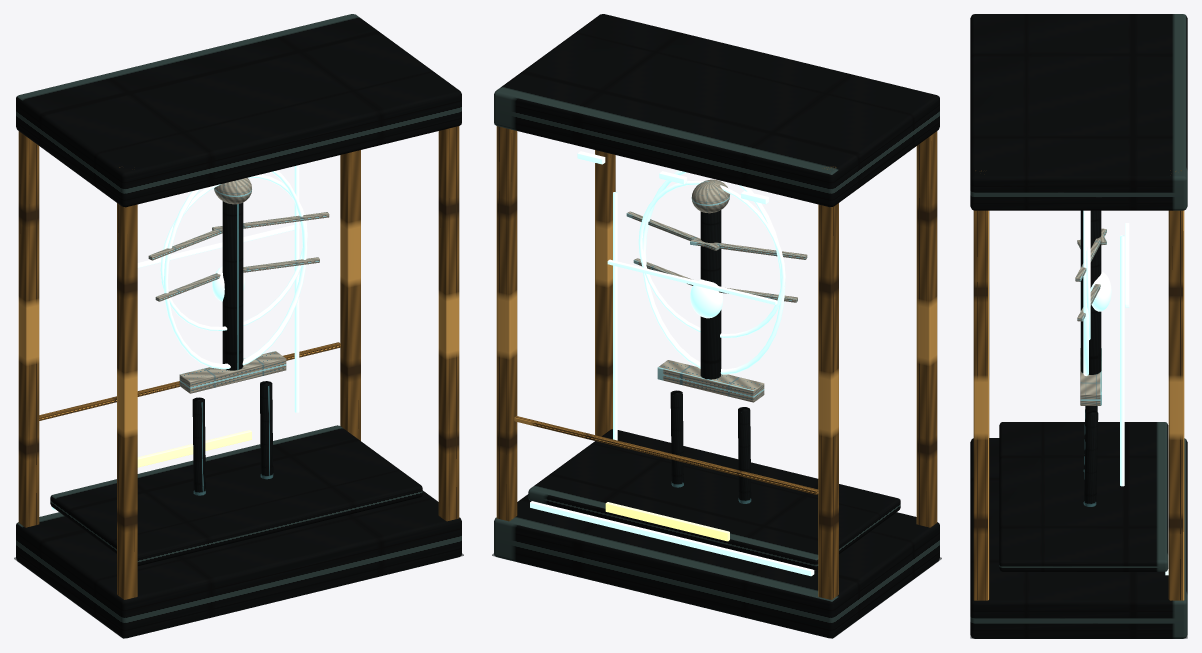
Rendered from age_museum_body_reference_case.glb.
The picture shows the model from 3 angles, left to right: view 1: azimuth 30°, elevation 25°; view 2: azimuth 150°, elevation 25°; view 3: azimuth 270°, elevation 25°; orthographic projection.
Visible parts, largest first — view 1: skeleton_case_upper_cap_smoked_black_textured, skeleton_case_lower_plinth_smoked_black_textured, skeleton_case_inner_deck_smoked_display_floor, skeleton_case_aged_brass_corner_post_0.765_-0.405, skeleton_case_aged_brass_corner_post_-0.765_0.405, skeleton_case_aged_brass_corner_post_-0.765_-0.405, skeleton_case_aged_brass_corner_post_0.765_0.405, body_asset_dark_bionic_spine_column, body_asset_outer_oval_specimen_scan_frame, body_asset_ivory_pelvis_memory_anchor_plate, body_asset_upper_cyan_rib_scan_ring, body_asset_dark_abstract_leg_memory_strut_1 (+7 smaller); view 2: skeleton_case_upper_cap_smoked_black_textured, skeleton_case_lower_plinth_smoked_black_textured, skeleton_case_inner_deck_smoked_display_floor, skeleton_case_aged_brass_corner_post_0.765_0.405, skeleton_case_aged_brass_corner_post_-0.765_-0.405, skeleton_case_aged_brass_corner_post_-0.765_0.405, skeleton_case_aged_brass_corner_post_0.765_-0.405, body_asset_dark_bionic_spine_column, skeleton_case_cyan_floor_light_line, body_asset_ivory_pelvis_memory_anchor_plate, skeleton_case_thin_front_lip_beveled_brass, body_asset_upper_cyan_rib_scan_ring (+10 smaller); view 3: skeleton_case_upper_cap_smoked_black_textured, skeleton_case_inner_deck_smoked_display_floor, skeleton_case_lower_plinth_smoked_black_textured, skeleton_case_aged_brass_corner_post_0.765_0.405, skeleton_case_aged_brass_corner_post_0.765_-0.405, body_asset_dark_bionic_spine_column, body_asset_dark_abstract_leg_memory_strut_1, body_asset_vertical_preservation_light_tube_0, body_asset_outer_oval_specimen_scan_frame, body_asset_ivory_pelvis_memory_anchor_plate, body_asset_clean_cyan_heart_memory_core, body_asset_upper_cyan_rib_scan_ring (+2 smaller).
Boxes of the visible parts, <box> form: skeleton_case_upper_cap_smoked_black_textured: <box>16,14,461,207</box>; skeleton_case_lower_plinth_smoked_black_textured: <box>16,490,461,638</box>; skeleton_case_inner_deck_smoked_display_floor: <box>50,425,422,565</box>; skeleton_case_aged_brass_corner_post_0.765_-0.405: <box>438,126,459,521</box>; skeleton_case_aged_brass_corner_post_-0.765_0.405: <box>18,131,39,527</box>; skeleton_case_aged_brass_corner_post_-0.765_-0.405: <box>117,167,137,599</box>; skeleton_case_aged_brass_corner_post_0.765_0.405: <box>340,150,360,440</box>; body_asset_dark_bionic_spine_column: <box>222,201,243,370</box>; body_asset_outer_oval_specimen_scan_frame: <box>163,170,307,369</box>; body_asset_ivory_pelvis_memory_anchor_plate: <box>179,351,286,393</box>; body_asset_upper_cyan_rib_scan_ring: <box>160,174,307,330</box>; body_asset_dark_abstract_leg_memory_strut_1: <box>260,381,273,479</box>; skeleton_case_upper_cap_smoked_black_textured: <box>494,14,939,207</box>; skeleton_case_lower_plinth_smoked_black_textured: <box>494,494,939,638</box>; skeleton_case_inner_deck_smoked_display_floor: <box>528,429,900,570</box>; skeleton_case_aged_brass_corner_post_0.765_0.405: <box>496,126,517,521</box>; skeleton_case_aged_brass_corner_post_-0.765_-0.405: <box>916,131,937,527</box>; skeleton_case_aged_brass_corner_post_-0.765_0.405: <box>818,166,838,599</box>; skeleton_case_aged_brass_corner_post_0.765_-0.405: <box>595,150,615,436</box>; body_asset_dark_bionic_spine_column: <box>700,210,721,379</box>; skeleton_case_cyan_floor_light_line: <box>530,501,814,576</box>; body_asset_ivory_pelvis_memory_anchor_plate: <box>657,360,764,402</box>; skeleton_case_thin_front_lip_beveled_brass: <box>514,416,818,494</box>; body_asset_upper_cyan_rib_scan_ring: <box>638,180,785,337</box>; skeleton_case_upper_cap_smoked_black_textured: <box>970,14,1187,210</box>; skeleton_case_inner_deck_smoked_display_floor: <box>999,422,1168,571</box>; skeleton_case_lower_plinth_smoked_black_textured: <box>970,438,1187,638</box>; skeleton_case_aged_brass_corner_post_0.765_0.405: <box>1168,170,1184,600</box>; skeleton_case_aged_brass_corner_post_0.765_-0.405: <box>973,170,989,600</box>; body_asset_dark_bionic_spine_column: <box>1080,210,1101,374</box>; body_asset_dark_abstract_leg_memory_strut_1: <box>1083,410,1098,506</box>; body_asset_vertical_preservation_light_tube_0: <box>1120,235,1124,486</box>; body_asset_outer_oval_specimen_scan_frame: <box>1083,210,1088,375</box>; body_asset_ivory_pelvis_memory_anchor_plate: <box>1080,348,1101,405</box>; body_asset_clean_cyan_heart_memory_core: <box>1090,271,1111,311</box>; body_asset_upper_cyan_rib_scan_ring: <box>1086,210,1090,339</box>.
Bounding box in the file's own units: 1.62 × 2.12 × 0.9.
9 materials, 5 textured.
